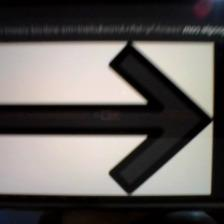right: (5, 42, 214, 195)
